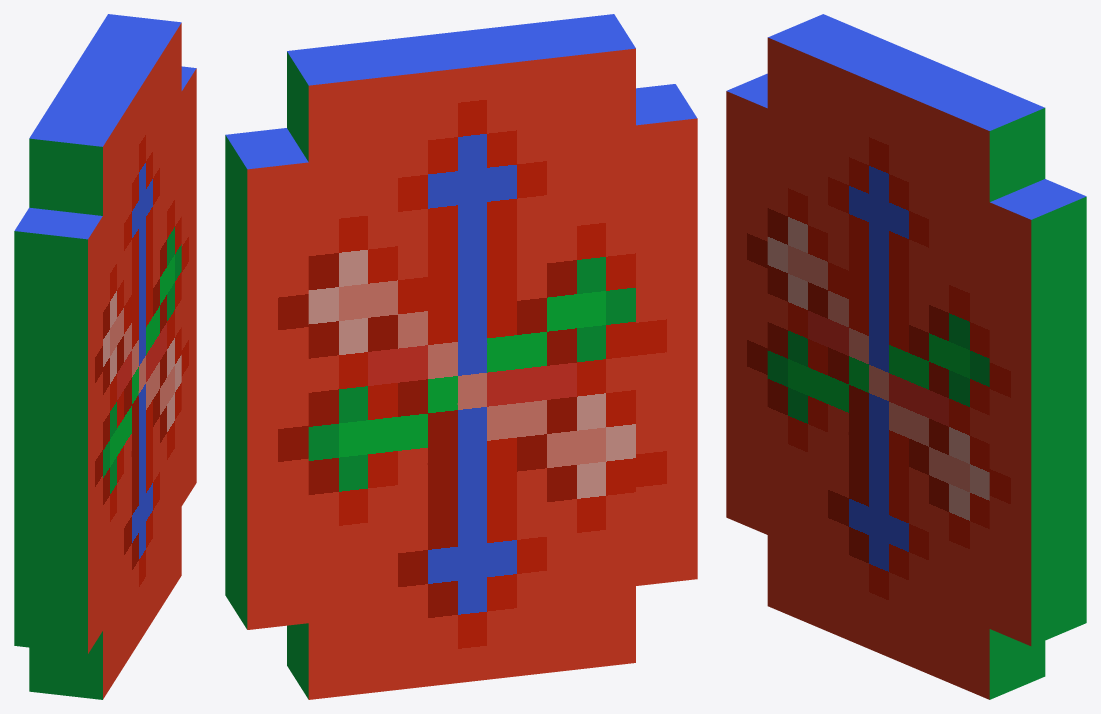
Rendered from axisToken-6.fbx.
3 renders of one model, left to right at view 1: azimuth 30°, elevation 25°; view 2: azimuth 150°, elevation 25°; view 3: azimuth 270°, elevation 25°, orthographic. The views are drawn at different scales.
Parts seen in each view (by area): view 1: cube, cube_2, cube_1; view 2: cube, cube_1, cube_2; view 3: cube, cube_1, cube_2.
Boxes of the visible parts, x1,y1,x2,y2 form: cube: (29,14,181,699); cube_2: (14,207,102,653); cube_1: (181,66,196,505); cube: (287,14,635,699); cube_1: (225,128,308,629); cube_2: (636,84,697,585); cube: (767,14,1045,699); cube_1: (989,179,1086,646); cube_2: (726,73,767,534).
Size of the model in its own units: 28.73 by 50 by 28.73.
Materials: 1 (1 with a texture image).
